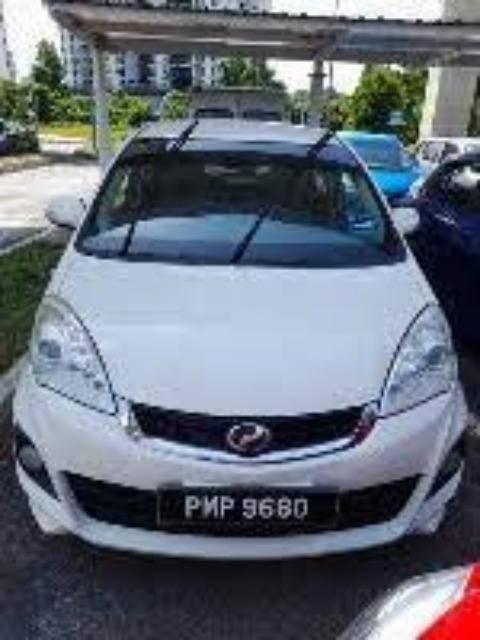License_Plate: (159, 483, 337, 538)
car: (12, 105, 471, 564)
